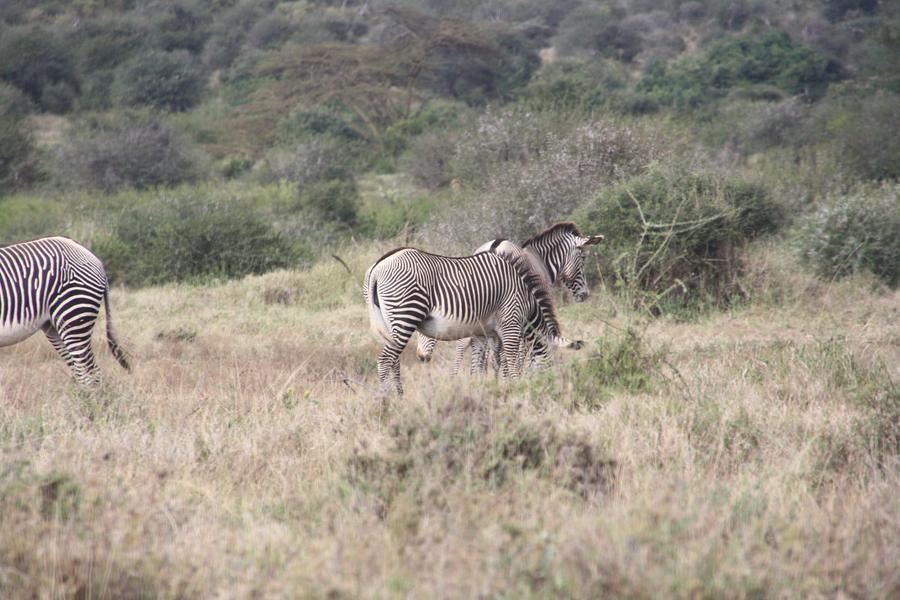zebra_grevys: (365, 239, 523, 329)
